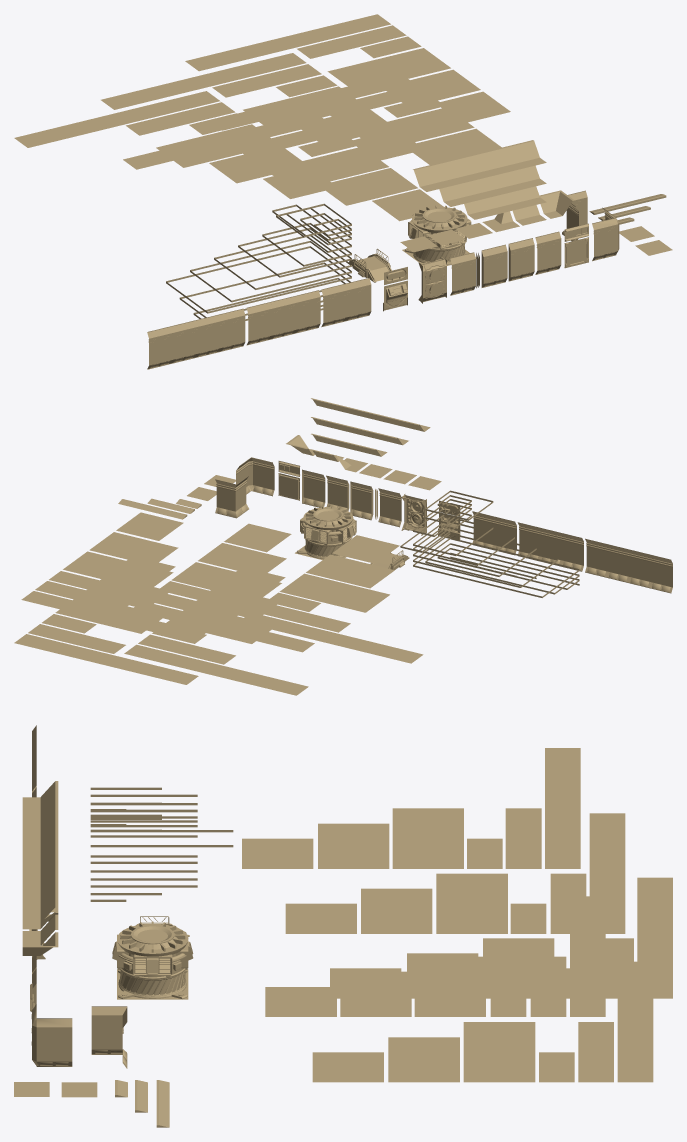
File: Engine_Room.fbx
3 renders of one model, top to bottom at view 1: azimuth 30°, elevation 25°; view 2: azimuth 150°, elevation 25°; view 3: azimuth 270°, elevation 25°, orthographic. The views are drawn at different scales.
Visible parts, largest first — view 1: ER_v5_11, ER_v10_27, ER_v5_10, ER_v10_12, ER_v10_18, ER_v10_24, ER_v10_9, ER_v10_15, ER_v10_21, ER_v10_26, ER_v10_20, ER_v10_8 (+35 smaller); view 2: ER_v5_11, ER_v9_7, ER_v10_12, ER_v8_7, ER_v10_24, ER_v10_18, ER_v10_9, ER_v10_15, ER_v10_21, ER_v5_10, ER_v1_1, ER_v10_14 (+35 smaller); view 3: ER_v1_1, ER_v10_18, ER_v9_4, ER_v10_12, ER_v10_9, ER_v10_15, ER_v10_21, ER_v10_24, ER_v9_3, ER_v10_8, ER_v10_14, ER_v10_20 (+32 smaller).
Part boxes in pixels (bbox=[...]): ER_v5_11: bbox=[147, 308, 245, 369]; ER_v10_27: bbox=[413, 140, 546, 191]; ER_v5_10: bbox=[246, 290, 320, 345]; ER_v10_12: bbox=[185, 14, 390, 71]; ER_v10_18: bbox=[101, 53, 306, 109]; ER_v10_24: bbox=[14, 91, 220, 147]; ER_v10_9: bbox=[327, 48, 450, 91]; ER_v10_15: bbox=[243, 86, 366, 129]; ER_v10_21: bbox=[156, 124, 279, 167]; ER_v10_26: bbox=[439, 165, 546, 206]; ER_v10_20: bbox=[209, 145, 308, 183]; ER_v10_8: bbox=[381, 69, 480, 107]; ER_v5_11: bbox=[585, 538, 672, 593]; ER_v9_7: bbox=[14, 634, 198, 684]; ER_v10_12: bbox=[21, 591, 205, 641]; ER_v8_7: bbox=[124, 644, 308, 695]; ER_v10_24: bbox=[239, 612, 423, 663]; ER_v10_18: bbox=[130, 601, 314, 652]; ER_v10_9: bbox=[63, 551, 173, 590]; ER_v10_15: bbox=[171, 562, 281, 601]; ER_v10_21: bbox=[279, 573, 389, 612]; ER_v5_10: bbox=[517, 522, 583, 571]; ER_v1_1: bbox=[295, 505, 356, 559]; ER_v10_14: bbox=[198, 543, 286, 576]; ER_v1_1: bbox=[112, 921, 193, 999]; ER_v10_18: bbox=[589, 813, 625, 933]; ER_v9_4: bbox=[463, 1022, 535, 1082]; ER_v10_12: bbox=[637, 877, 672, 998]; ER_v10_9: bbox=[483, 938, 554, 998]; ER_v10_15: bbox=[436, 873, 507, 933]; ER_v10_21: bbox=[392, 808, 463, 868]; ER_v10_24: bbox=[545, 748, 580, 868]; ER_v9_3: bbox=[388, 1037, 459, 1082]; ER_v10_8: bbox=[407, 953, 478, 998]; ER_v10_14: bbox=[361, 888, 432, 933]; ER_v10_20: bbox=[318, 823, 389, 868].
Bounding box in the file's own units: 70.51 × 15.6 × 55.35.
